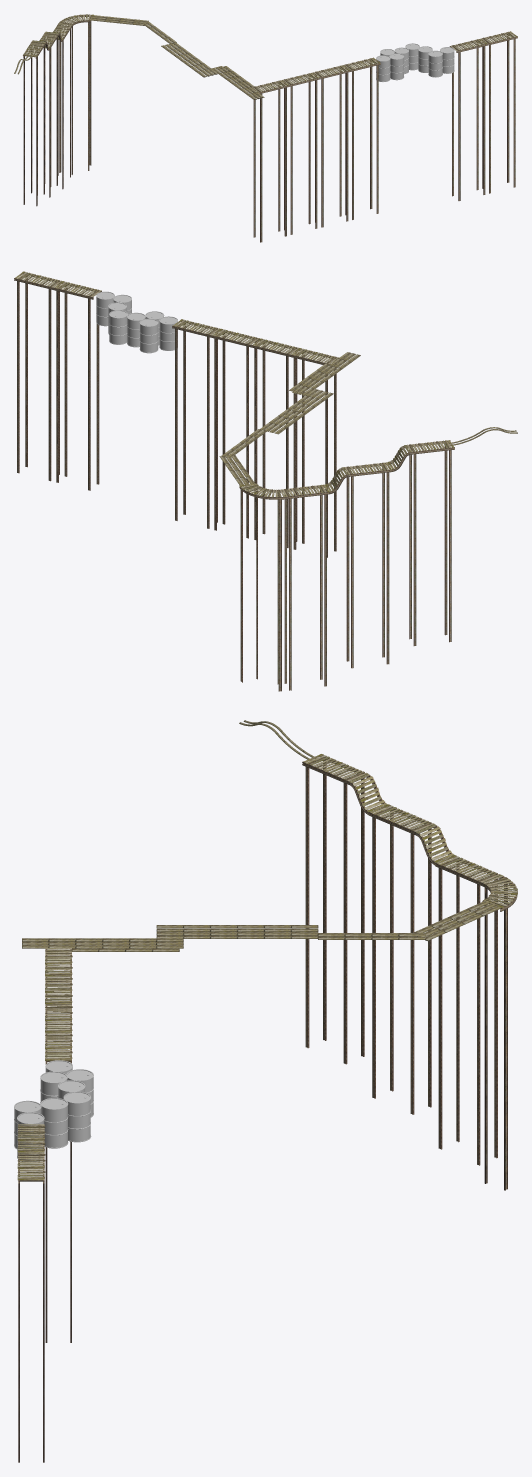
The picture shows the model from 3 angles, top to bottom: view 1: azimuth 30°, elevation 25°; view 2: azimuth 150°, elevation 25°; view 3: azimuth 270°, elevation 25°; orthographic projection. The views are drawn at different scales.
Parts seen in each view (by area): view 1: Ramp_001__49_, Ramp_001__45_, Ramp_001__47_, Ramp_001__50_, Ramp_001__46_, Ramp_001__48_, ramp_009__6_, Ramp_001__39_, Ramp_001__38_, Ramp_001__34_, Barrel__9_, Barrel__12_ (+4 smaller); view 2: Ramp_001__38_, Ramp_001__39_, Ramp_001__45_, Ramp_001__34_, Ramp_001__46_, Ramp_001__50_, Ramp_001__49_, Ramp_001__47_, ramp_009__6_, Ramp_001__48_, Barrel__14_, Barrel__11_ (+3 smaller); view 3: Ramp_001__39_, Ramp_001__38_, Ramp_001__34_, ramp_009__6_, Ramp_001__46_, Ramp_001__48_, Barrel__7_, Barrel__11_.
Part boxes in pixels (x1,y1,x2,y2): Ramp_001__49_: (251,80,288,242); Ramp_001__45_: (449,39,487,200); Ramp_001__47_: (313,65,350,227); Ramp_001__50_: (282,72,319,234); Ramp_001__46_: (481,31,517,193); Ramp_001__48_: (343,57,380,219); ramp_009__6_: (58,14,93,174); Ramp_001__39_: (23,41,45,206); Ramp_001__38_: (37,32,58,197); Ramp_001__34_: (50,24,71,189); Barrel__9_: (428,50,442,77); Barrel__12_: (389,53,404,80); Ramp_001__38_: (343,462,391,668); Ramp_001__39_: (406,440,454,645); Ramp_001__45_: (53,281,101,490); Ramp_001__34_: (281,484,329,690); Ramp_001__46_: (14,271,62,481); Ramp_001__50_: (251,338,299,547); Ramp_001__49_: (290,348,338,557); Ramp_001__47_: (211,328,259,538); ramp_009__6_: (239,483,285,691); Ramp_001__48_: (172,319,220,528); Barrel__14_: (139,318,158,353); Barrel__11_: (109,310,127,344); Ramp_001__39_: (302,754,367,1064); Ramp_001__38_: (369,804,434,1114); Ramp_001__34_: (435,855,500,1165); ramp_009__6_: (482,875,517,1190); Ramp_001__46_: (17,1152,45,1462); Ramp_001__48_: (45,1032,72,1342); Barrel__7_: (40,1098,68,1148); Barrel__11_: (63,1091,91,1142).
Bounding box in the file's own units: 7187 × 2826 × 3742.
